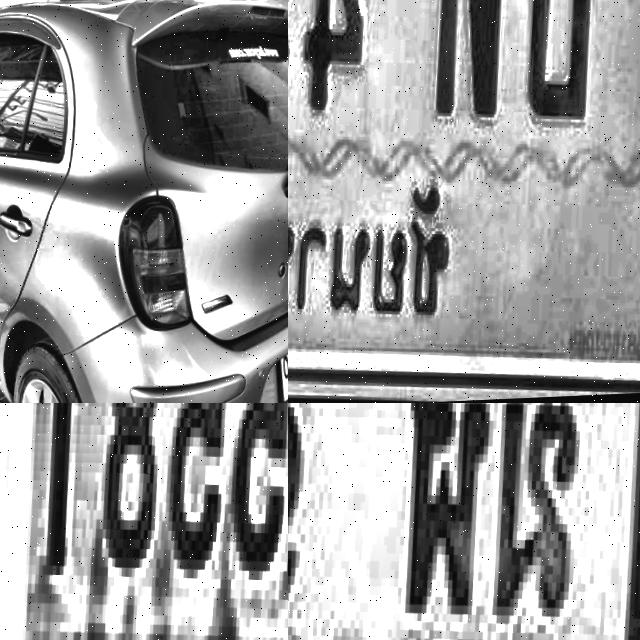license-plate: (288, 0, 640, 403), (288, 403, 640, 640), (0, 403, 288, 640), (254, 308, 288, 403)
